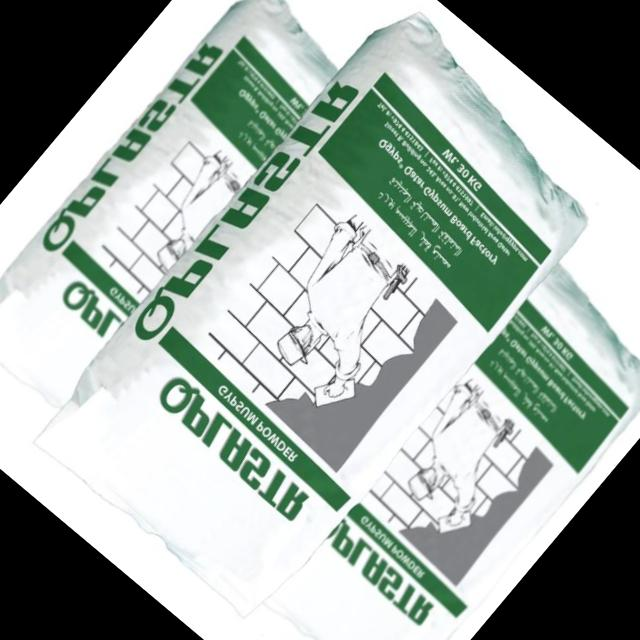KantongSemen: (22, 0, 625, 628), (0, 0, 361, 419), (255, 254, 640, 640)
